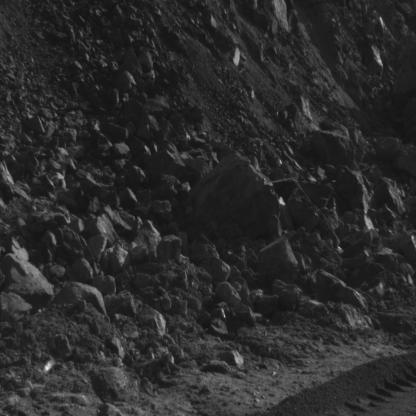stone: (190, 153, 280, 240), (1, 253, 55, 314), (310, 269, 368, 314), (258, 237, 300, 290), (48, 281, 107, 316), (305, 128, 356, 167), (335, 168, 378, 213), (287, 178, 319, 232), (146, 138, 184, 176), (373, 177, 406, 215), (0, 292, 32, 323), (134, 221, 161, 257), (85, 215, 119, 243), (202, 256, 230, 283), (109, 243, 132, 275), (159, 236, 182, 262), (226, 49, 240, 67)
